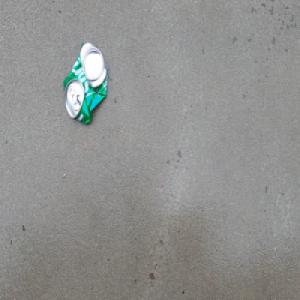SodaCan: (61, 39, 108, 126)
